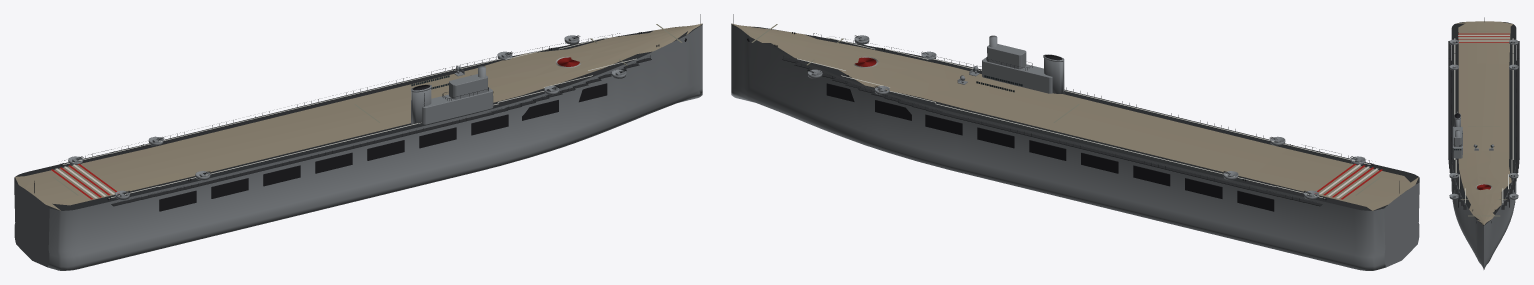
File: kaga_lod.glb
The picture shows the model from 3 angles, left to right: view 1: azimuth 30°, elevation 25°; view 2: azimuth 150°, elevation 25°; view 3: azimuth 270°, elevation 25°; orthographic projection. The views are drawn at different scales.
Parts seen in each view (by area): view 1: kaga_lod; view 2: kaga_lod; view 3: kaga_lod.
Boxes of the visible parts, box(x1,y1,x2,y2) form: kaga_lod: box(14, 14, 702, 270); kaga_lod: box(731, 14, 1419, 270); kaga_lod: box(1448, 17, 1519, 269).
Bounding box in the file's own units: 248 × 36.48 × 35.92.
